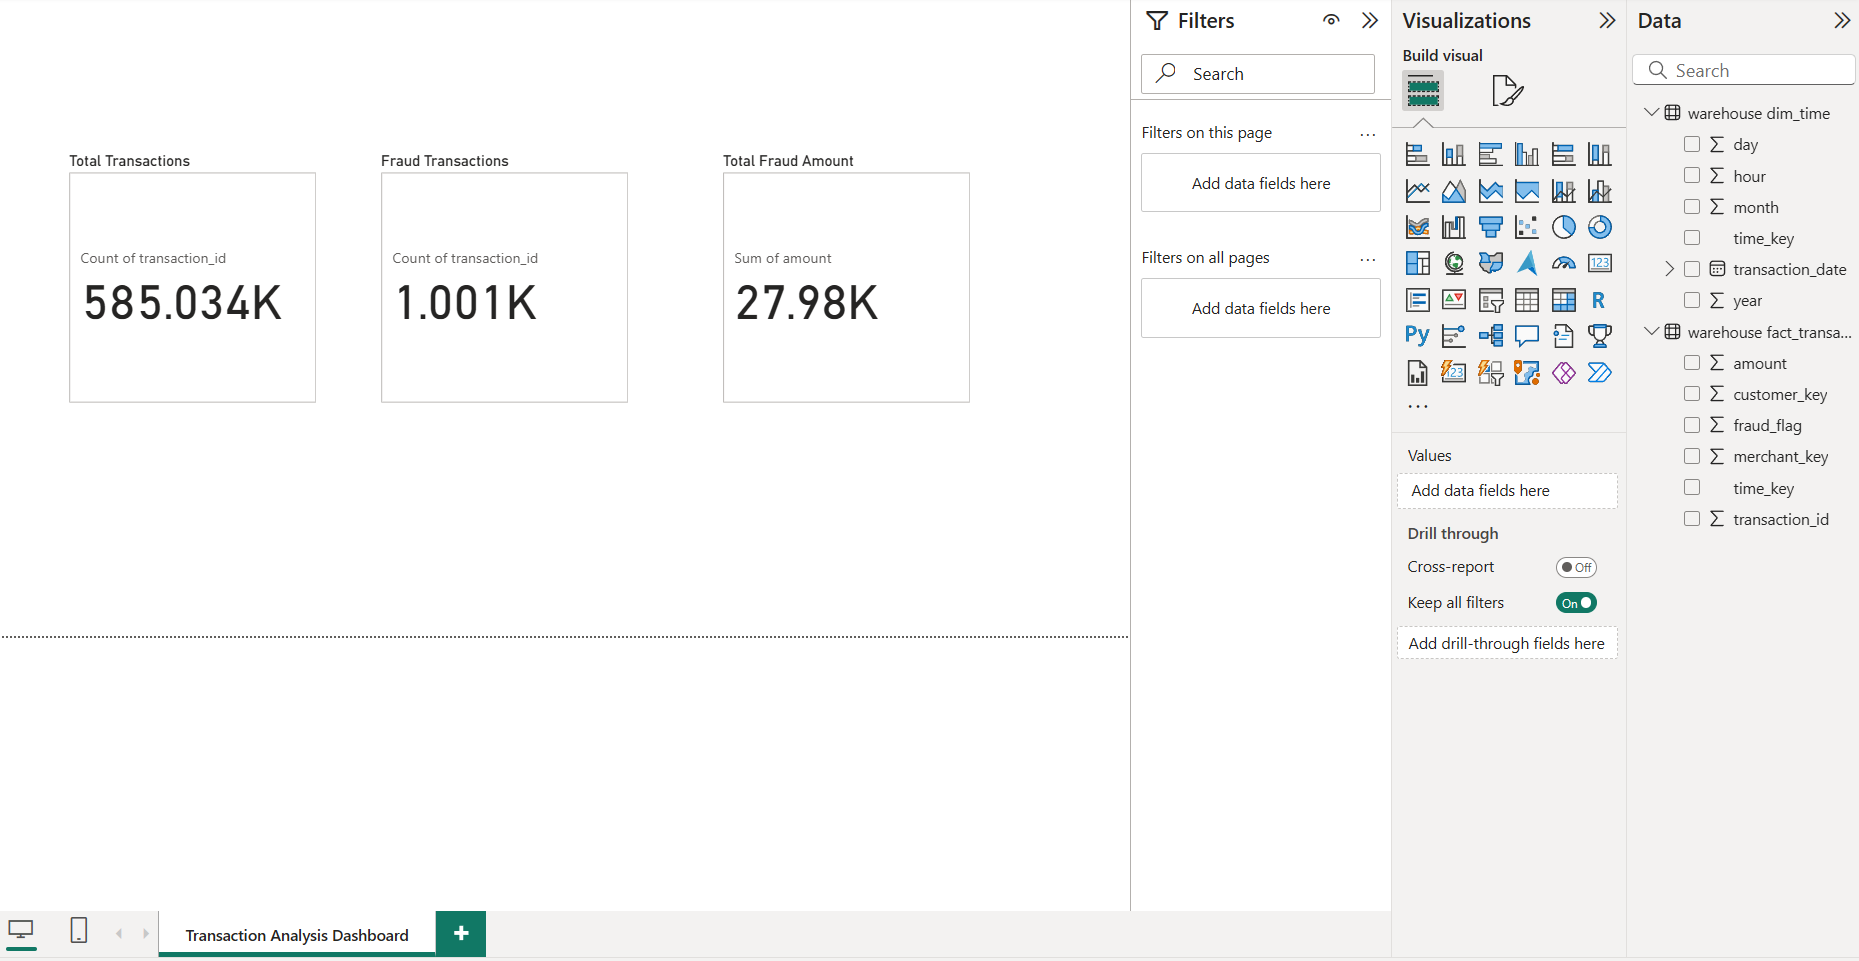

Layout of this report page (visuals, bound fields, positions):
{"tool":"powerbi","page":{"name":"Transaction Analysis Dashboard","canvas":[1280,720],"ordinal":0},"visuals":[{"type":"cardVisual","title":" Total Transactions","fields":{"Data":["CountNonNull(warehouse fact_transactions.transaction_id)"]},"box":[80,176,288,288],"z":0},{"type":"cardVisual","title":"Fraud Transactions","fields":{"Data":["CountNonNull(warehouse fact_transactions.transaction_id)"]},"box":[432,176,288,288],"z":1},{"type":"cardVisual","title":"Total Fraud Amount","fields":{"Data":["Sum(warehouse fact_transactions.amount)"]},"box":[816,176,288,288],"z":2}]}

Visuals, with their boxes on the page's 1280x720 design canvas (x1, y1, x2, y2). These are canvas units, not pixel positions in the 1859x961 screenshot, which may show the page scaled, cropped or inside an application window:
" Total Transactions" cardVisual: (left=80, top=176, right=368, bottom=464)
"Fraud Transactions" cardVisual: (left=432, top=176, right=720, bottom=464)
"Total Fraud Amount" cardVisual: (left=816, top=176, right=1104, bottom=464)
